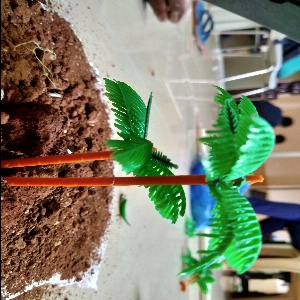plant: (198, 85, 274, 292), (91, 72, 185, 220)
